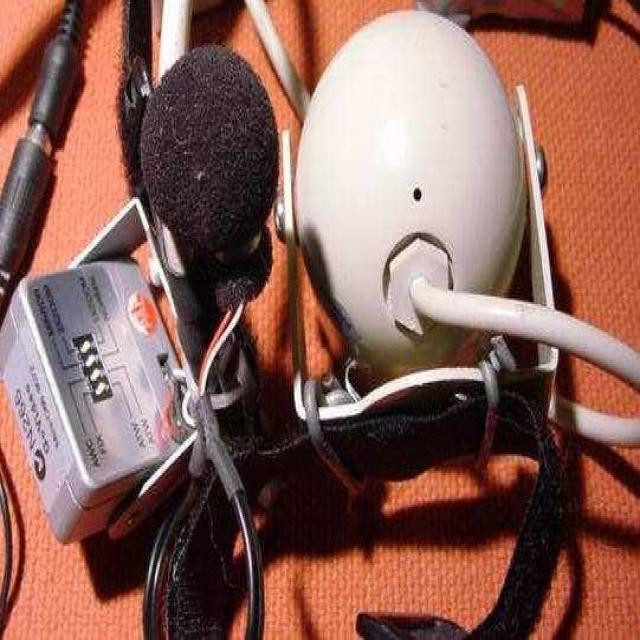microphone: (134, 44, 282, 324)
